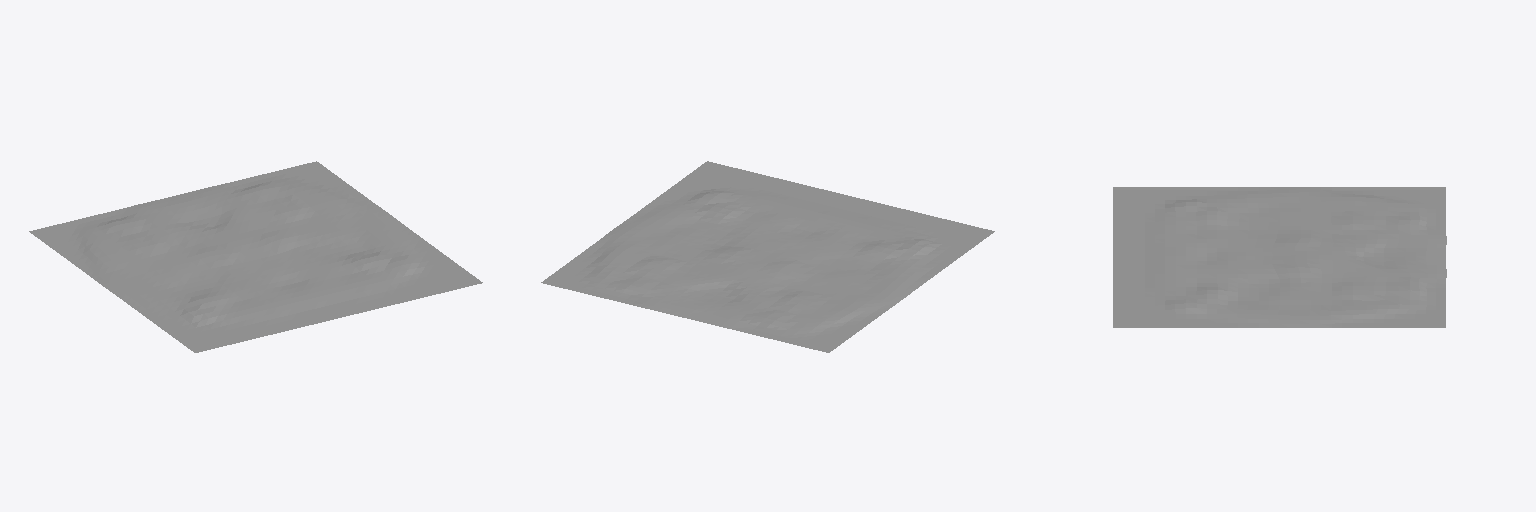
File: fondo.obj
3 renders of one model, left to right at view 1: azimuth 30°, elevation 25°; view 2: azimuth 150°, elevation 25°; view 3: azimuth 270°, elevation 25°, orthographic.
Parts seen in each view (by area): view 1: suelo_Plane; view 2: suelo_Plane; view 3: suelo_Plane.
Part boxes in pixels (x1,y1,x2,y2): suelo_Plane: (29,161,482,352); suelo_Plane: (541,161,994,352); suelo_Plane: (1113,187,1446,327).
Bounding box in the file's own units: 40.1 × 0.327 × 40.03.